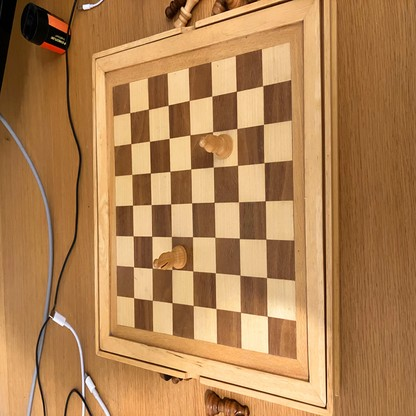bishop_black: (204, 391, 248, 416)
bishop_white: (154, 244, 187, 273), (199, 135, 233, 157)
